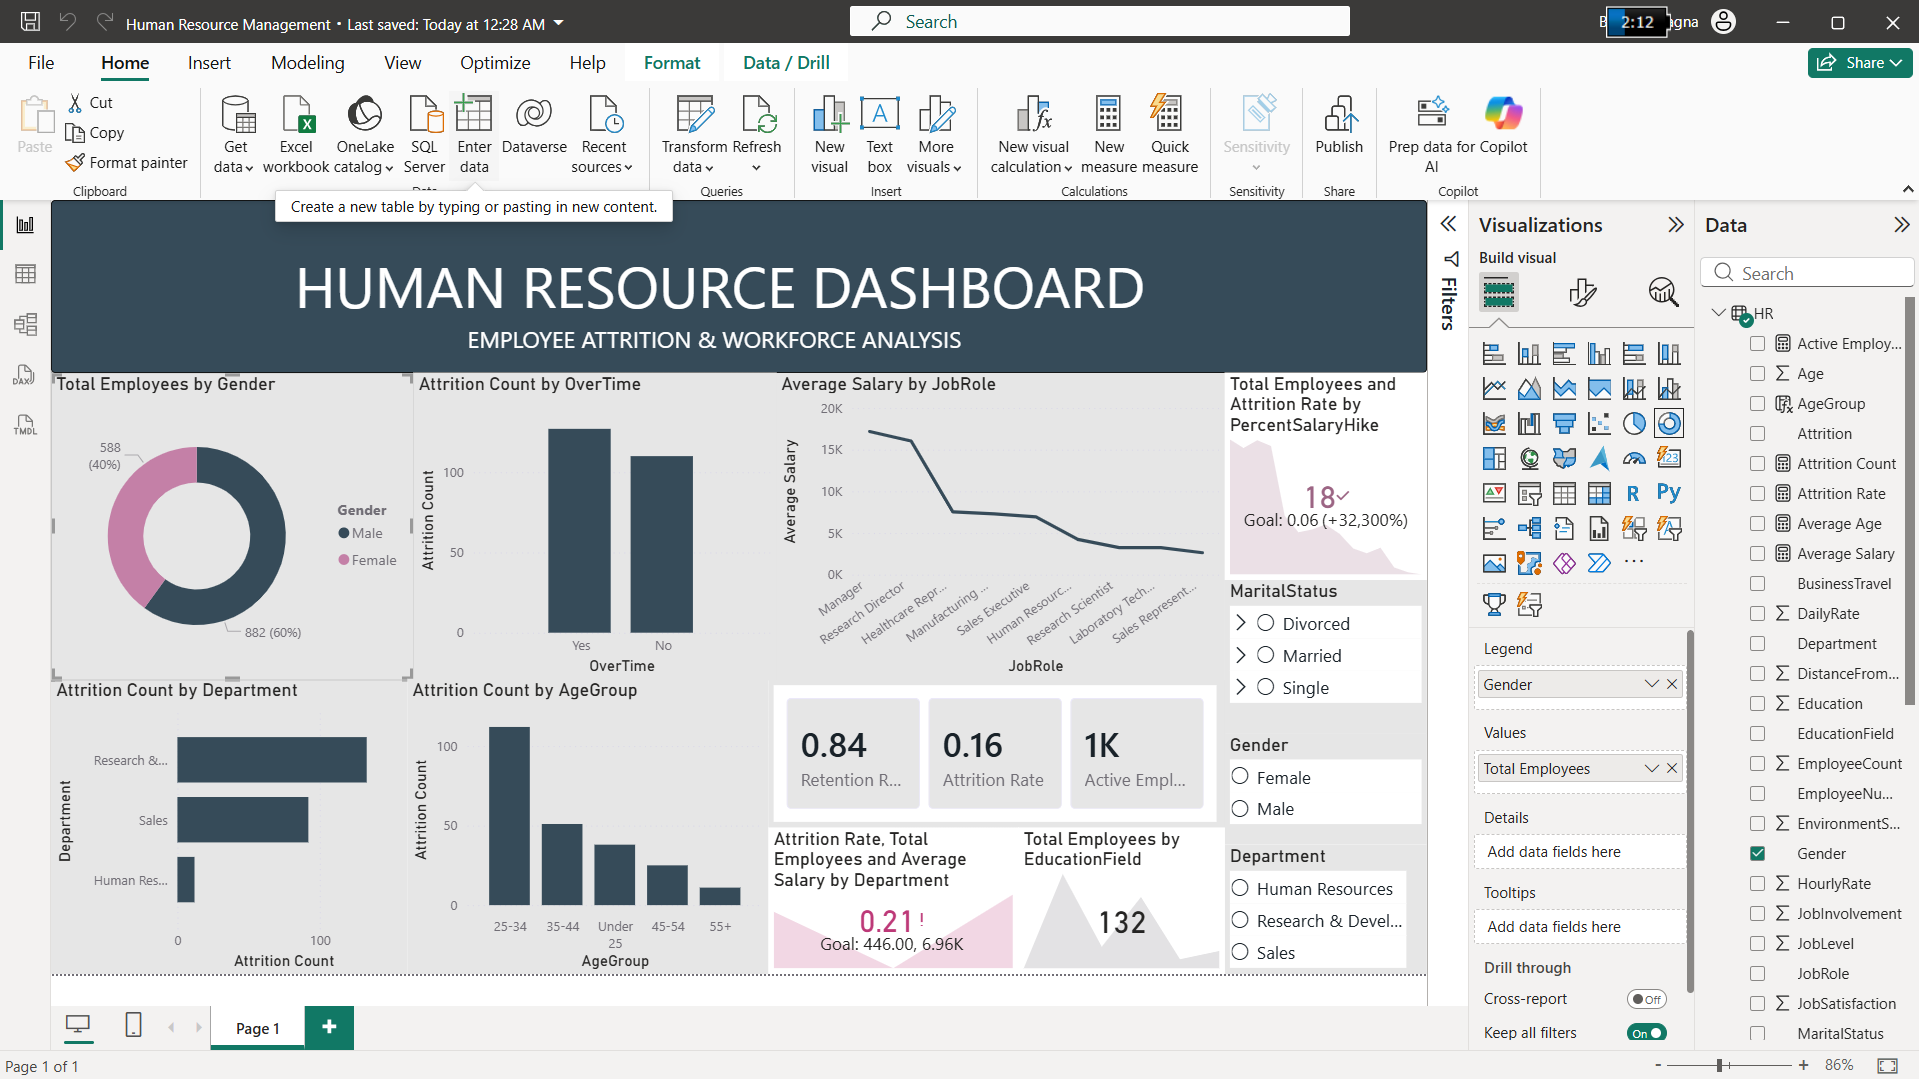

The page's visual inventory and layout, read from the dashboard file:
{"tool":"powerbi","page":{"name":"Page 1","canvas":[1280,720],"ordinal":0},"visuals":[{"type":"clusteredBarChart","fields":{"Category":["HR.Department"],"Y":["HR.Attrition Count"]},"box":[0,445.4,331.4,275.6],"z":0},{"type":"donutChart","fields":{"Category":["HR.Gender"],"Y":["HR.Total Employees"]},"box":[0,160.5,337.6,285.4],"z":1000},{"type":"clusteredColumnChart","fields":{"Category":["HR.AgeGroup"],"Y":["HR.Attrition Count"]},"box":[331.4,445.4,336,275.6],"z":2000},{"type":"lineChart","fields":{"Category":["HR.JobRole"],"Y":["HR.Average Salary"]},"box":[674.4,160.5,417.4,286],"z":3000},{"type":"textbox","box":[0,0,1280.2,160.5],"z":4000},{"type":"clusteredColumnChart","fields":{"Y":["HR.Attrition Count"],"Category":["HR.OverTime"]},"box":[337.2,160.5,337.2,286],"z":5000},{"type":"cardVisual","fields":{"Data":["HR.Retention Rate","HR.Attrition Rate","HR.Active Employees"]},"box":[667.4,446.5,424.4,137.2],"z":6000},{"type":"listSlicer","fields":{"Values":["HR.Department"]},"box":[1092.3,599.7,188,120.8],"z":7000},{"type":"listSlicer","fields":{"Values":["HR.Gender"]},"box":[1091.9,496.5,188.4,103.5],"z":8000},{"type":"listSlicer","fields":{"Values":["HR.MaritalStatus","HR.JobRole"]},"box":[1091.9,353.5,188.4,143],"z":9000},{"type":"kpi","fields":{"Indicator":["HR.Total Employees"],"Goal":["HR.Attrition Rate"],"TrendLine":["HR.PercentSalaryHike"]},"box":[1091.9,160.5,188.4,193],"z":10000},{"type":"kpi","fields":{"Indicator":["HR.Attrition Rate"],"Goal":["HR.Total Employees","HR.Average Salary"],"TrendLine":["HR.Department"]},"box":[667.4,583.7,232.6,136],"z":11000},{"type":"kpi","fields":{"Indicator":["HR.Total Employees"],"TrendLine":["HR.EducationField"]},"box":[900,583.7,191.9,136],"z":12000}]}

Visuals, with their boxes on the page's 1280x720 design canvas (x1, y1, x2, y2). These are canvas units, not pixel positions in the 1919x1079 screenshot, which may show the page scaled, cropped or inside an application window:
clusteredBarChart - HR.Department x HR.Attrition Count: [x1=0, y1=445, x2=331, y2=721]
donutChart - HR.Gender x HR.Total Employees: [x1=0, y1=160, x2=338, y2=446]
clusteredColumnChart - HR.AgeGroup x HR.Attrition Count: [x1=331, y1=445, x2=667, y2=721]
lineChart - HR.JobRole x HR.Average Salary: [x1=674, y1=160, x2=1092, y2=446]
textbox: [x1=0, y1=0, x2=1280, y2=160]
clusteredColumnChart - HR.Attrition Count x HR.OverTime: [x1=337, y1=160, x2=674, y2=446]
cardVisual - HR.Retention Rate x HR.Attrition Rate: [x1=667, y1=446, x2=1092, y2=584]
listSlicer - HR.Department: [x1=1092, y1=600, x2=1280, y2=720]
listSlicer - HR.Gender: [x1=1092, y1=496, x2=1280, y2=600]
listSlicer - HR.MaritalStatus x HR.JobRole: [x1=1092, y1=354, x2=1280, y2=496]
kpi - HR.Total Employees x HR.Attrition Rate: [x1=1092, y1=160, x2=1280, y2=354]
kpi - HR.Attrition Rate x HR.Total Employees: [x1=667, y1=584, x2=900, y2=720]
kpi - HR.Total Employees x HR.EducationField: [x1=900, y1=584, x2=1092, y2=720]
